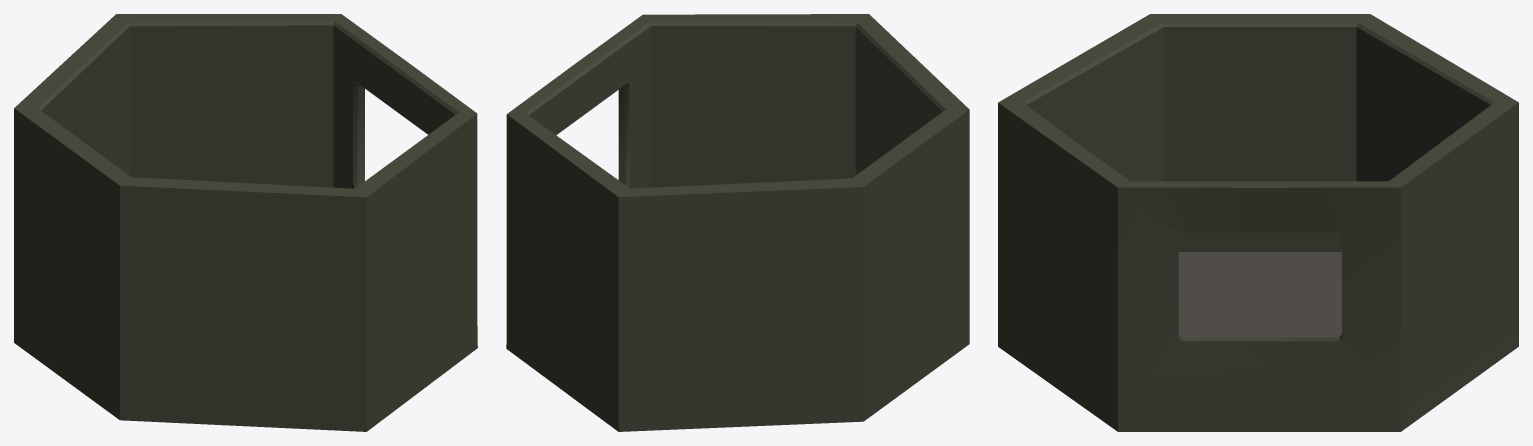
Rendered from RoomShell_Desktop.fbx.
3 renders of one model, left to right at view 1: azimuth 30°, elevation 25°; view 2: azimuth 150°, elevation 25°; view 3: azimuth 270°, elevation 25°, orthographic. The views are drawn at different scales.
Visible parts, largest first — view 1: roomShell_desktop; view 2: roomShell_desktop; view 3: roomShell_desktop.
Part boxes in pixels (x1,y1,x2,y2): roomShell_desktop: (14, 14, 477, 431); roomShell_desktop: (506, 14, 969, 431); roomShell_desktop: (998, 14, 1518, 431).
Size of the model in its own units: 3.52 by 2.31 by 4.46.
